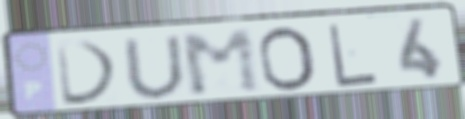4: (395, 15, 446, 83)
D: (52, 38, 123, 109)
L: (326, 21, 381, 90)
M: (176, 27, 266, 101)
O: (255, 24, 320, 94)
U: (120, 32, 191, 101)
